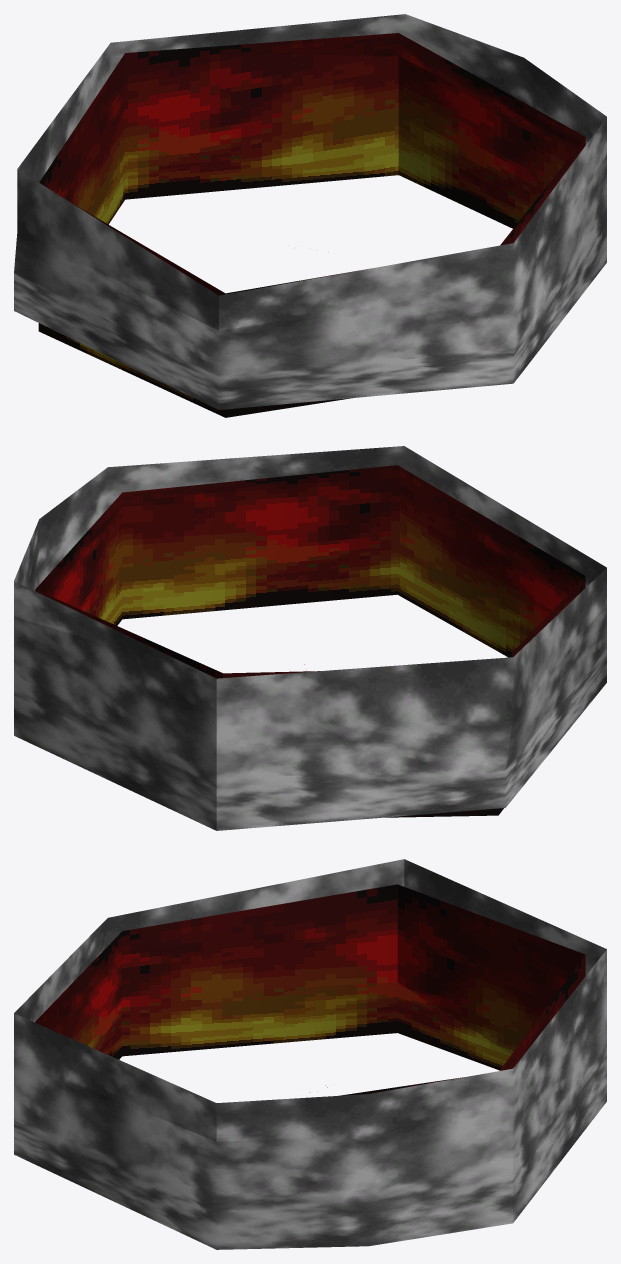
File: STG0100_G_18.fbx
3 renders of one model, top to bottom at view 1: azimuth 30°, elevation 25°; view 2: azimuth 150°, elevation 25°; view 3: azimuth 270°, elevation 25°, orthographic.
Visible parts, largest first — view 1: STG0100_G_18_s0100_nn040; view 2: STG0100_G_18_s0100_nn040; view 3: STG0100_G_18_s0100_nn040.
Part boxes in pixels (x1,y1,x2,y2): STG0100_G_18_s0100_nn040: [14, 14, 606, 417]; STG0100_G_18_s0100_nn040: [14, 446, 606, 830]; STG0100_G_18_s0100_nn040: [14, 859, 606, 1249].
Size of the model in its own units: 15560 by 5144 by 16009.
